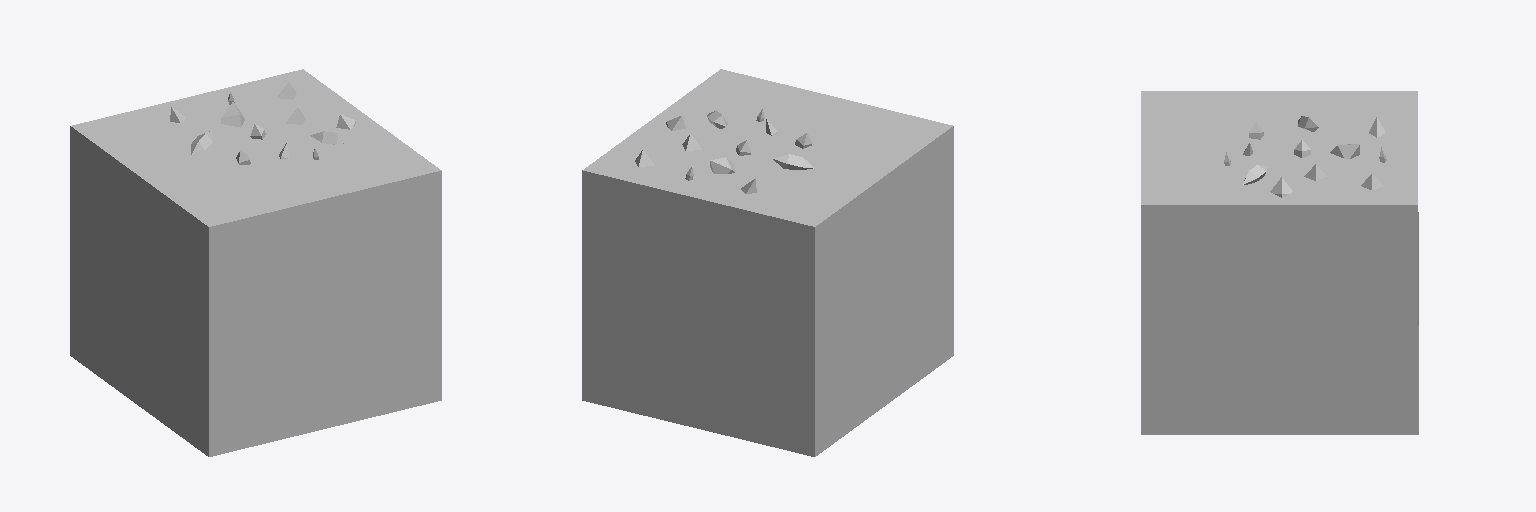
The model's file is recursos1.obj.
The picture shows the model from 3 angles: view 1: azimuth 30°, elevation 25°; view 2: azimuth 150°, elevation 25°; view 3: azimuth 270°, elevation 25°; orthographic projection.
Parts seen in each view (by area): view 1: polySurface70 polySurface83 polySurface1; view 2: polySurface70 polySurface83 polySurface1; view 3: polySurface70 polySurface83 polySurface1.
Part boxes in pixels (x1,y1,x2,y2): polySurface70 polySurface83 polySurface1: (70,69,441,456); polySurface70 polySurface83 polySurface1: (582,69,953,456); polySurface70 polySurface83 polySurface1: (1141,91,1418,434).
Bounding box in the file's own units: 9.36 × 9.39 × 9.66.